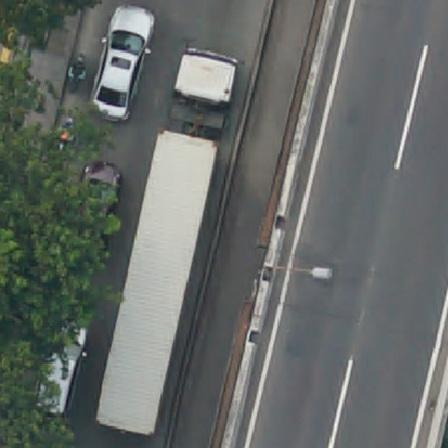Car: (95, 5, 151, 114), (30, 322, 87, 418), (77, 165, 120, 224)
Motorcycle: (67, 57, 88, 95), (57, 117, 78, 153)
